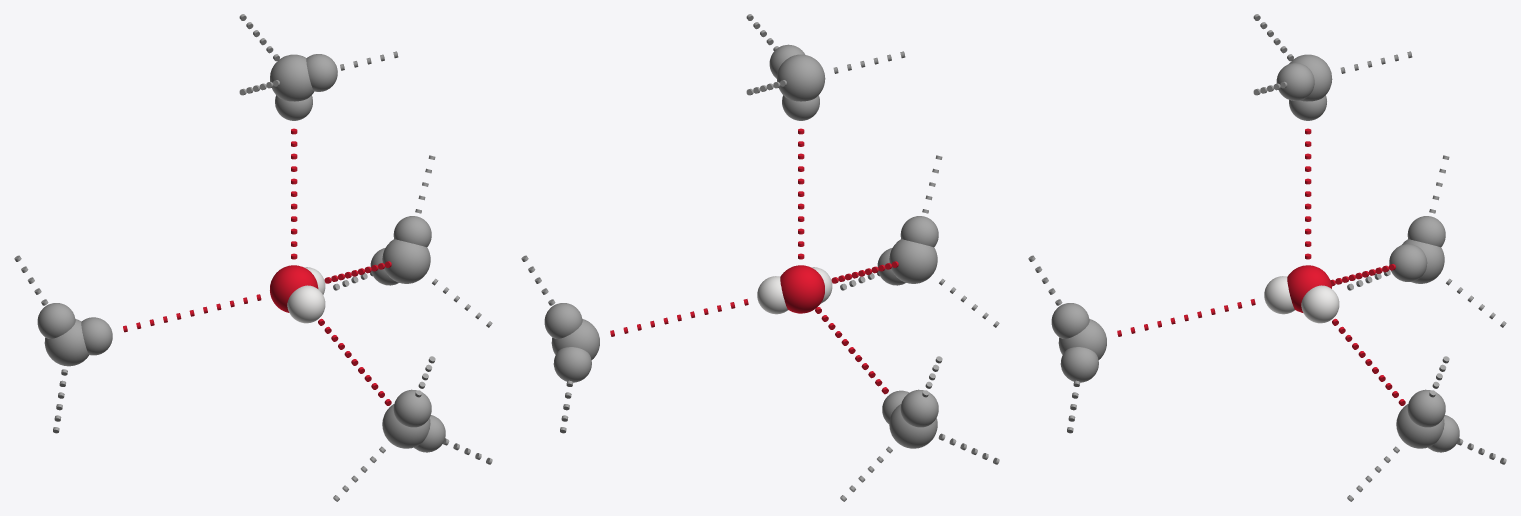
The model's file is fenzijingti2.FBX.
3 renders of one model, left to right at view 1: azimuth 30°, elevation 25°; view 2: azimuth 150°, elevation 25°; view 3: azimuth 270°, elevation 25°, orthographic.
Visible parts, largest first — view 1: Sphere113; view 2: Sphere113; view 3: Sphere113.
Boxes of the visible parts, x1=… form: Sphere113: x1=14, y1=14, x2=492, y2=501; Sphere113: x1=521, y1=14, x2=999, y2=501; Sphere113: x1=1028, y1=14, x2=1506, y2=501.
Bounding box in the file's own units: 79.52 × 59.56 × 74.96.
1 material, 1 textured.
